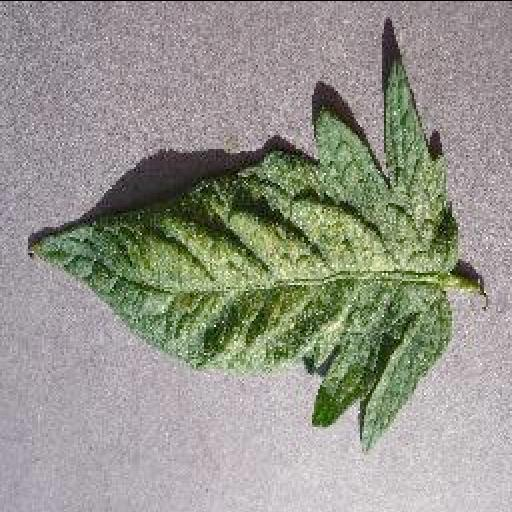disease_tomato: (26, 54, 458, 456)
